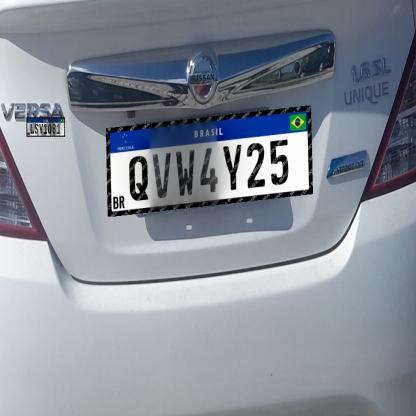PlacaM: (106, 106, 313, 216), (26, 117, 65, 137)
